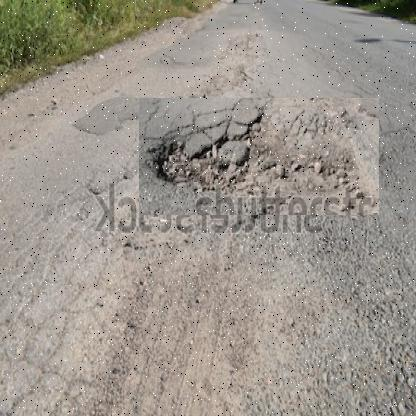pothole: (138, 98, 379, 216)
